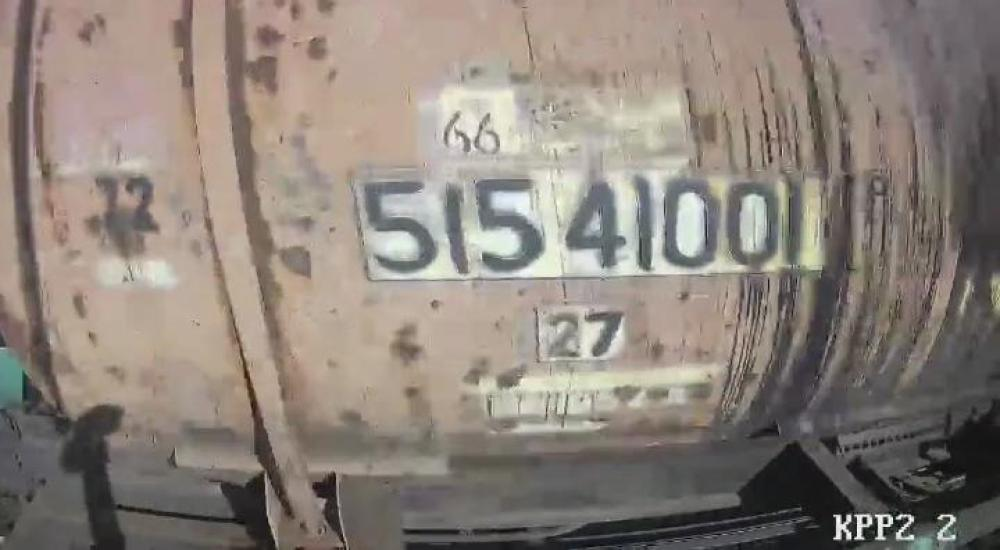Wagon-number: (360, 168, 814, 279)
